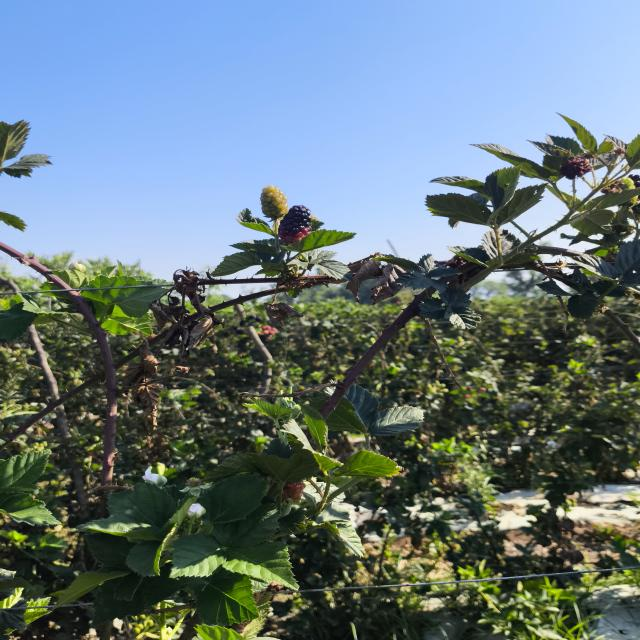marron: (279, 205, 311, 243)
verde: (260, 185, 288, 220)
